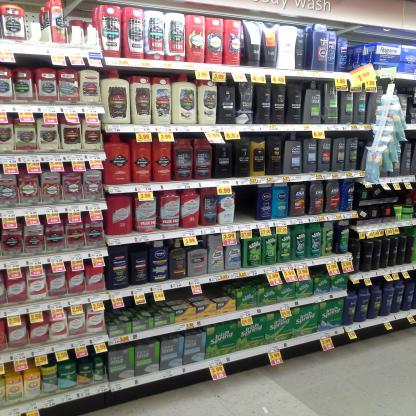Void: (235, 187, 254, 221), (311, 266, 324, 276), (210, 287, 225, 294)
